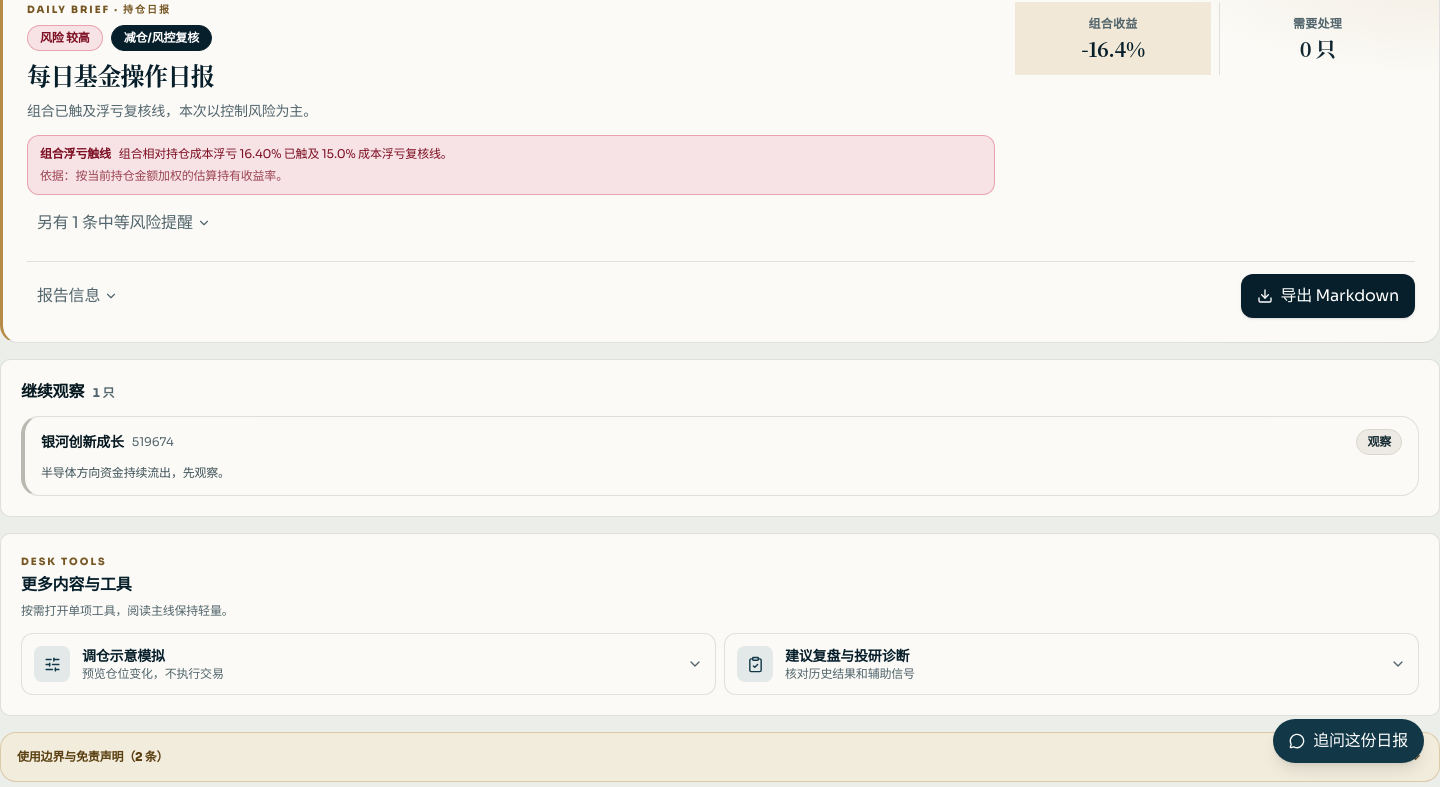
Test: ReportPanel 风险升级判定 › 灰度期展示升级依据，同时说明最终动作未被收紧
Click the button with aria-label "展开 银河创新成长". click: {"x": 82, "y": 442}
box: [25,417,1418,495]
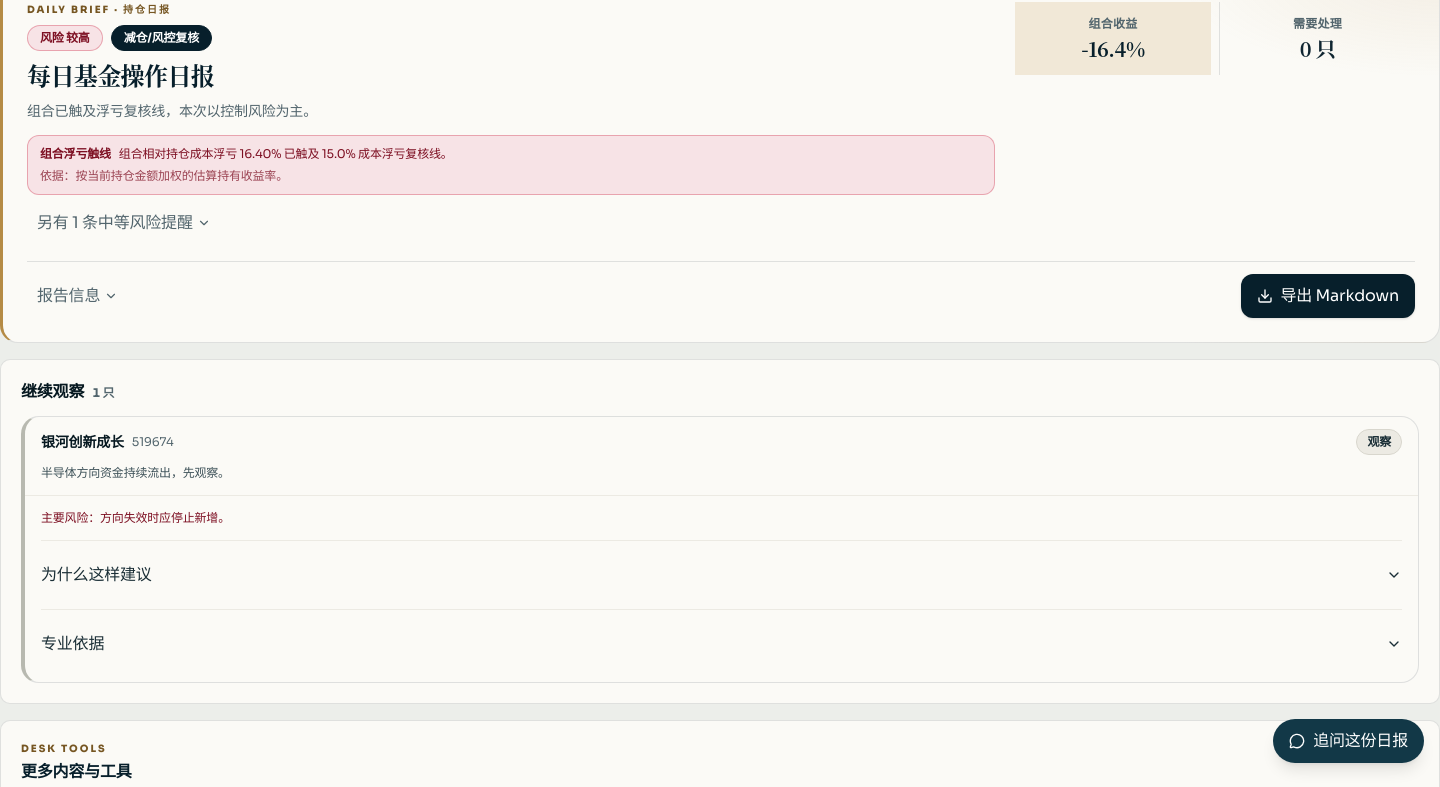
Click the button "专业依据". click: {"x": 73, "y": 644}
box: [41,622,1402,666]
(page scrolled)
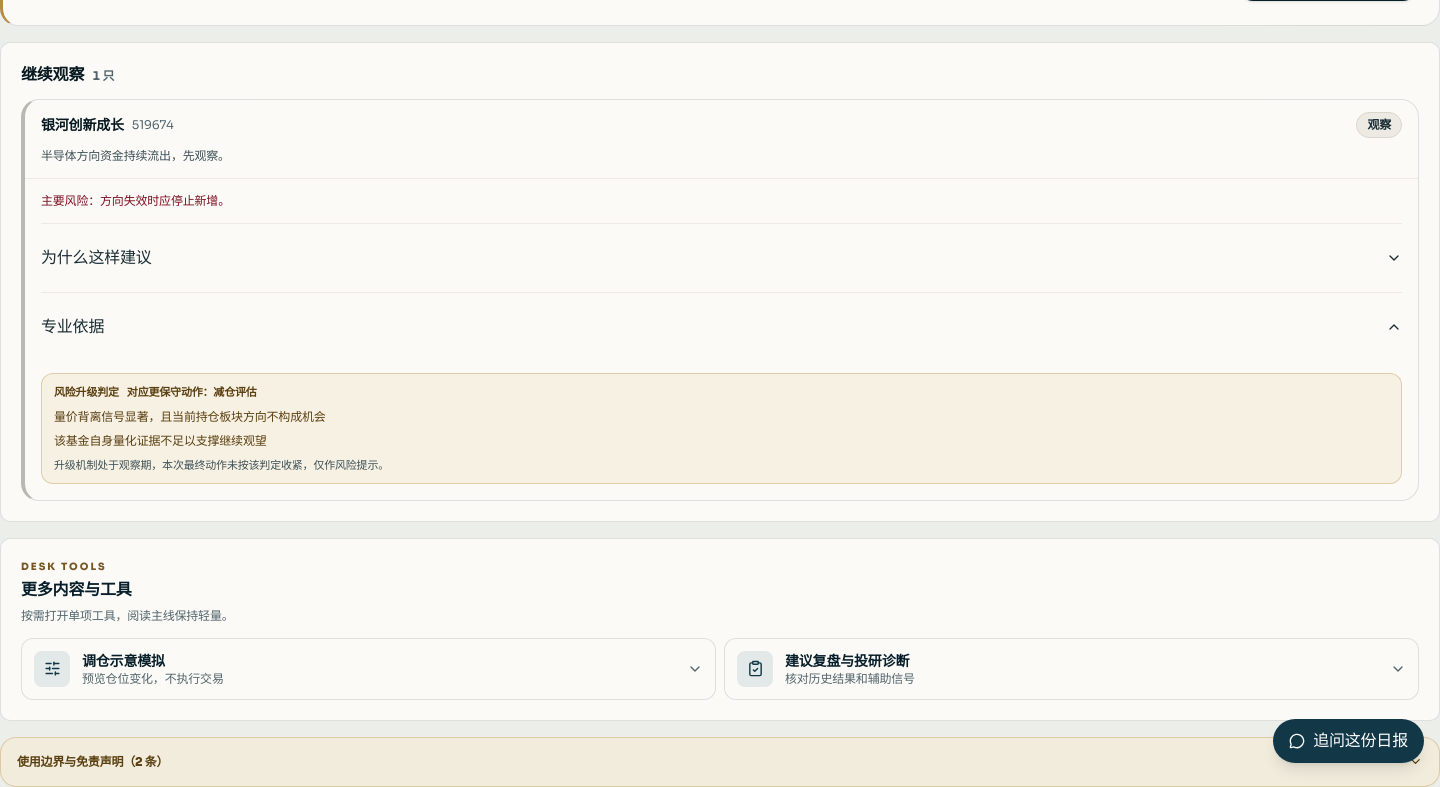
Result: the text "对应更保守动作：减仓评估" is shown at [127,384,257,400]
Result: the list item "量价背离信号显著，且当前持仓板块方向不构成机会" is shown at [54,408,326,424]
Result: the text "升级机制处于观察期，本次最终动作未按该判定收紧，仅作风险提示。" is shown at [54,458,389,472]
